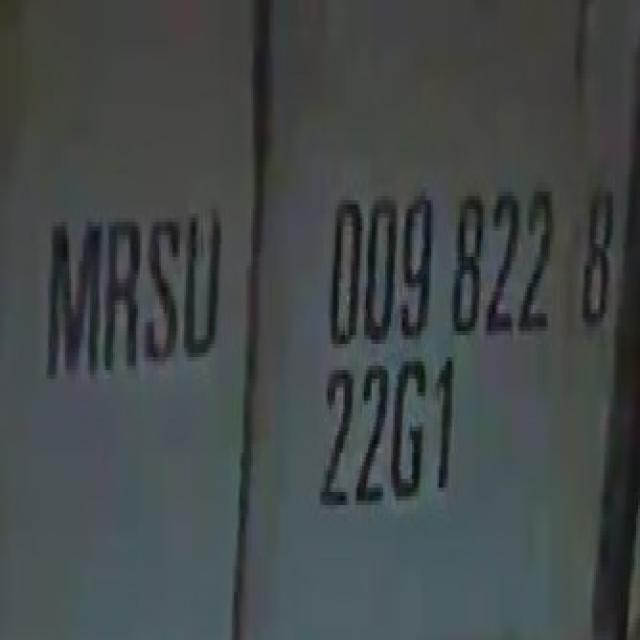dv: (574, 172, 617, 339)
owner: (34, 187, 226, 379)
serial: (326, 168, 558, 348)
size: (311, 342, 464, 540)
